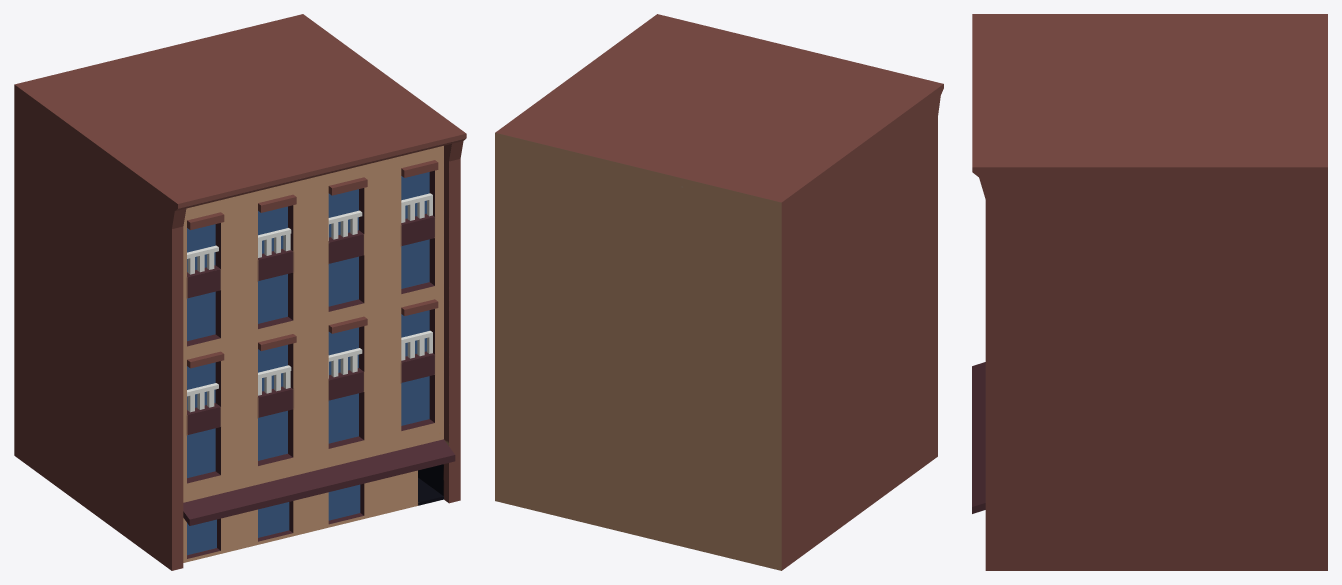
The model's file is Building_01_Textured.fbx.
The picture shows the model from 3 angles, left to right: view 1: azimuth 30°, elevation 25°; view 2: azimuth 150°, elevation 25°; view 3: azimuth 270°, elevation 25°; orthographic projection. The views are drawn at different scales.
Parts seen in each view (by area): view 1: Cube, Banister, Banister.001; view 2: Cube; view 3: Cube.
Part boxes in pixels (x1=…): Cube: x1=14, y1=14, x2=466, y2=570; Banister: x1=187, y1=330, x2=432, y2=412; Banister.001: x1=187, y1=193, x2=432, y2=274; Cube: x1=495, y1=14, x2=943, y2=570; Cube: x1=972, y1=14, x2=1327, y2=570.
Size of the model in its own units: 881 by 1083 by 865.
Materials: 3 (3 with a texture image).
